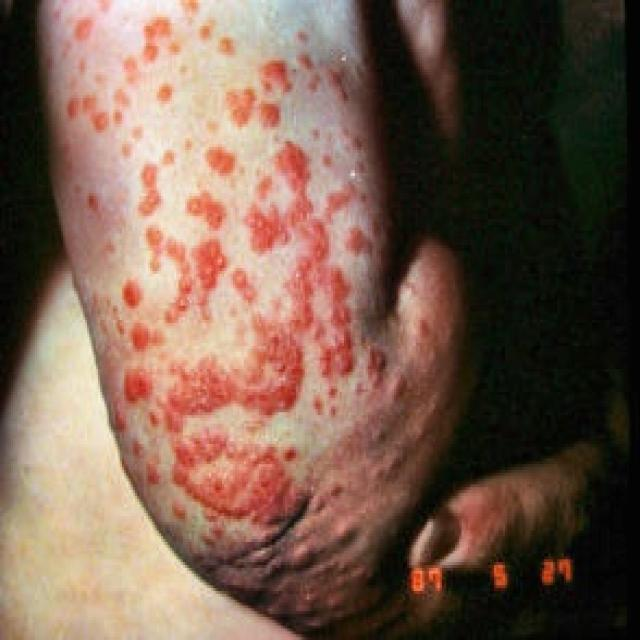Warts-Molluscum-and-other-Viral-Infections: (60, 14, 380, 577)
